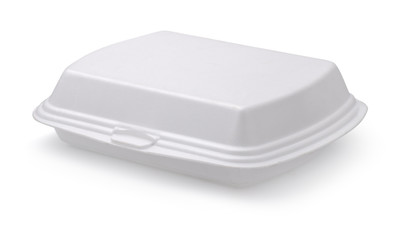styrofoam: (32, 30, 369, 186)
